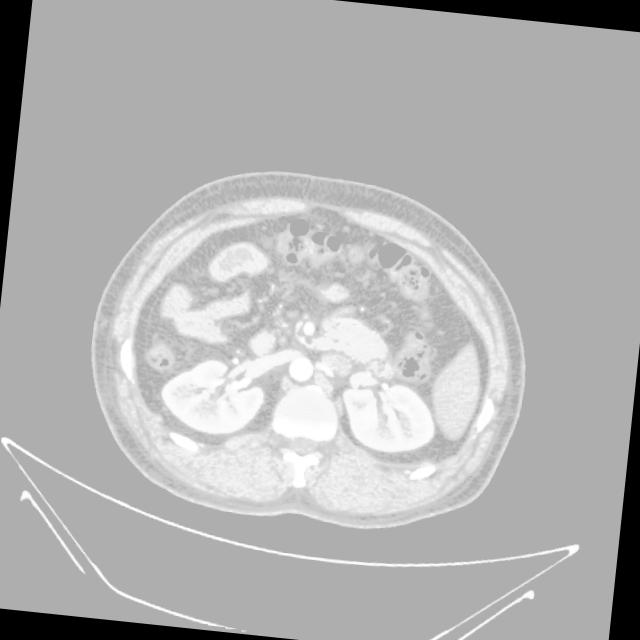NORMAL: (61, 140, 549, 579)
